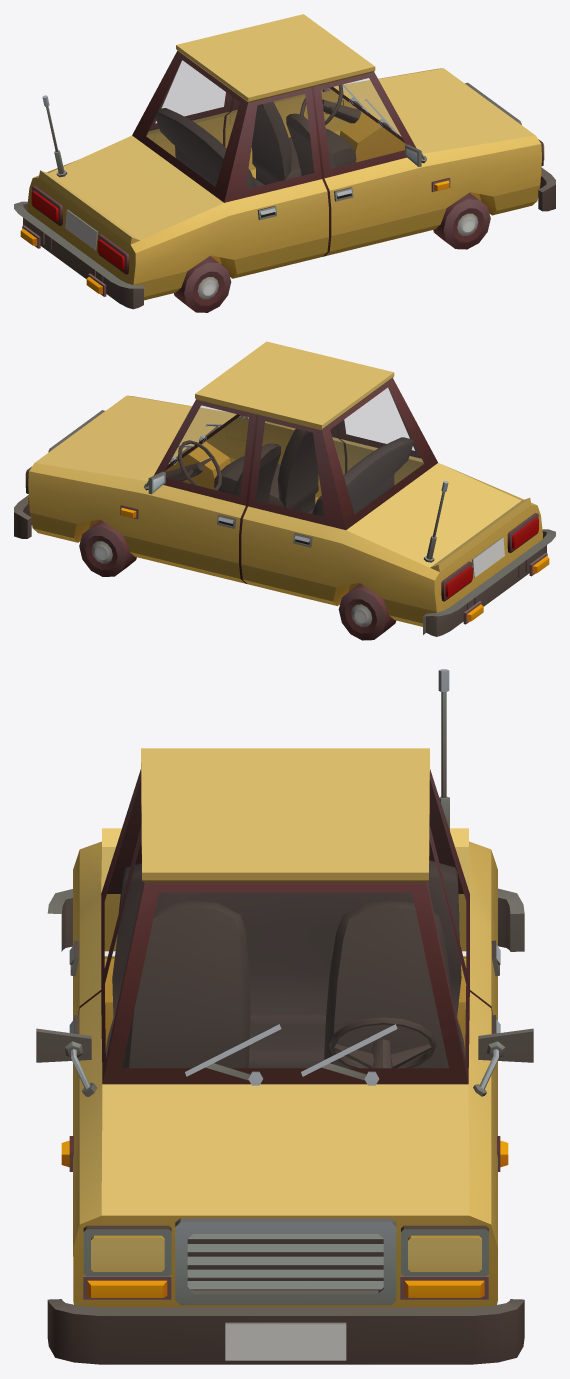
Rendered from Car_00.FBX.
3 views of the same model, one above another, from view 1: azimuth 30°, elevation 25°; view 2: azimuth 150°, elevation 25°; view 3: azimuth 270°, elevation 25° (orthographic). The views are drawn at different scales.
Parts seen in each view (by area): view 1: Car_00; view 2: Car_00; view 3: Car_00.
Boxes of the visible parts, x1=… form: Car_00: x1=14, y1=14, x2=555, y2=312; Car_00: x1=14, y1=341, x2=555, y2=640; Car_00: x1=36, y1=669, x2=533, y2=1364.
Bounding box in the file's own units: 396 × 161 × 191.
Materials: 2 (1 with a texture image).
